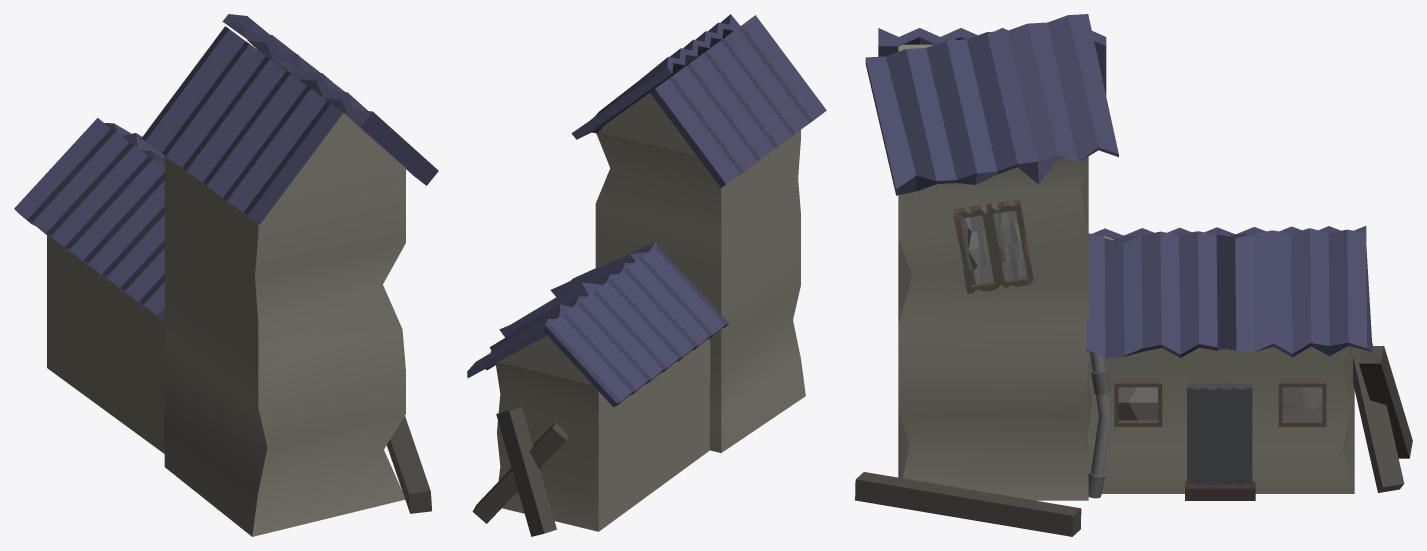
File: HOUSE 1 DAMAGED blue roof.fbx
3 views of the same model, side by side, from view 1: azimuth 30°, elevation 25°; view 2: azimuth 150°, elevation 25°; view 3: azimuth 270°, elevation 25° (orthographic). The views are drawn at different scales.
Parts seen in each view (by area): view 1: pCube1, pCube4, pCube6, pCube2, pCube3, pCube11, pCube5; view 2: pCube1, pCube2, pCube4, pCube6, pCube14, pCube5, pCube3; view 3: pCube1, pCube5, pCube3, pCube2, pCube11, pCube7, pCube10, pCube14, pCube8, pCube9, pCube4, pCylinder1 (+2 smaller).
Boxes of the visible parts, left/top/right/bottom form: pCube1: left=164, top=78, right=405, bottom=536; pCube4: left=141, top=26, right=342, bottom=224; pCube6: left=14, top=118, right=165, bottom=319; pCube2: left=47, top=235, right=164, bottom=453; pCube3: left=222, top=14, right=438, bottom=185; pCube11: left=386, top=416, right=431, bottom=513; pCube5: left=104, top=123, right=164, bottom=167; pCube1: left=595, top=93, right=805, bottom=452; pCube2: left=495, top=258, right=710, bottom=531; pCube4: left=650, top=15, right=826, bottom=187; pCube6: left=542, top=246, right=729, bottom=406; pCube14: left=472, top=406, right=568, bottom=536; pCube5: left=467, top=242, right=657, bottom=377; pCube3: left=571, top=14, right=740, bottom=139; pCube1: left=898, top=44, right=1088, bottom=500; pCube5: left=1086, top=228, right=1372, bottom=358; pCube3: left=865, top=14, right=1118, bottom=195; pCube2: left=1087, top=236, right=1354, bottom=493; pCube11: left=855, top=472, right=1081, bottom=536; pCube7: left=1187, top=383, right=1252, bottom=484; pCube10: left=953, top=199, right=1033, bottom=293; pCube14: left=1352, top=341, right=1412, bottom=492; pCube8: left=1114, top=379, right=1162, bottom=426; pCube9: left=1278, top=379, right=1326, bottom=426; pCube4: left=878, top=28, right=1106, bottom=95; pCylinder1: left=1089, top=352, right=1111, bottom=476.
Bounding box in the file's own units: 0.1072 × 0.1835 × 0.2061.
